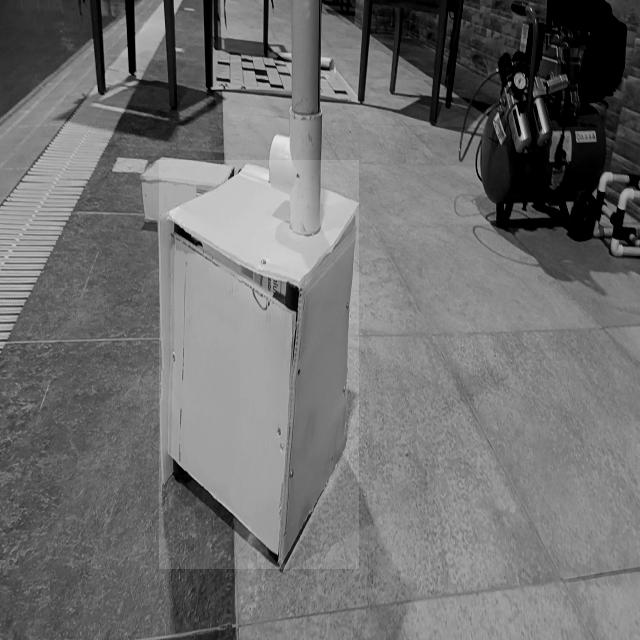Cube: (159, 160, 359, 569)
